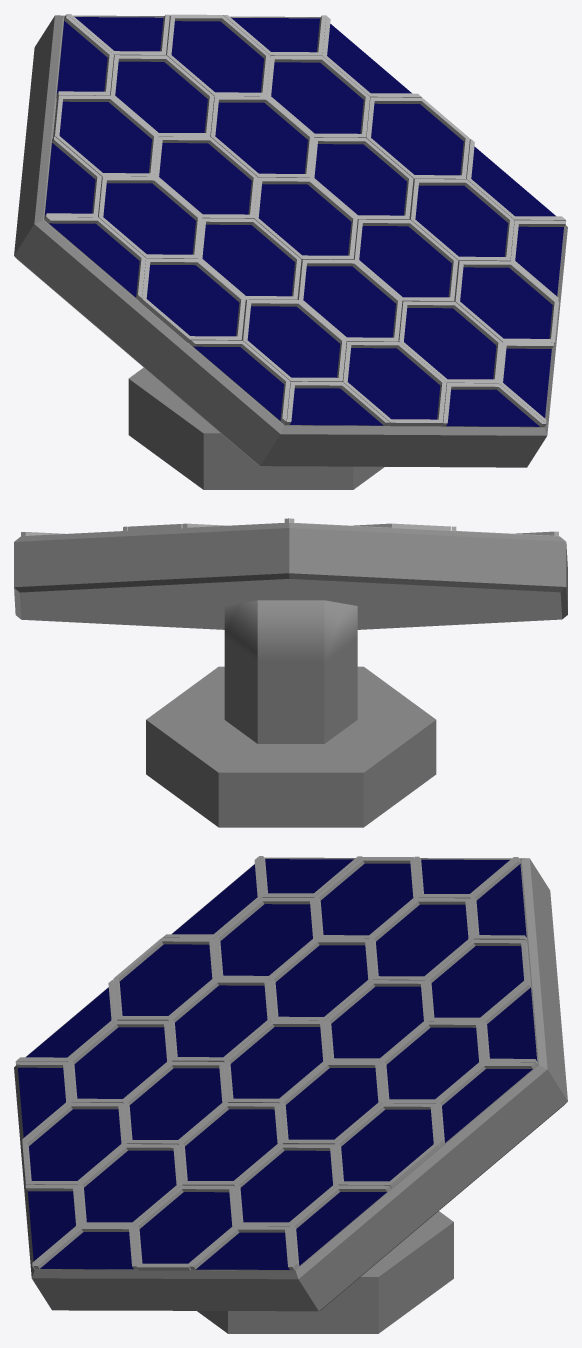
3 views of the same model, one above another, from view 1: azimuth 30°, elevation 25°; view 2: azimuth 150°, elevation 25°; view 3: azimuth 270°, elevation 25° (orthographic). The views are drawn at different scales.
Visible parts, largest first — view 1: polySurface5; view 2: polySurface5; view 3: polySurface5.
Part boxes in pixels (x1,y1,x2,y2): polySurface5: (14,14,567,489); polySurface5: (14,518,567,827); polySurface5: (14,856,567,1333).
Size of the model in its own units: 2.26 by 1.42 by 1.92.
